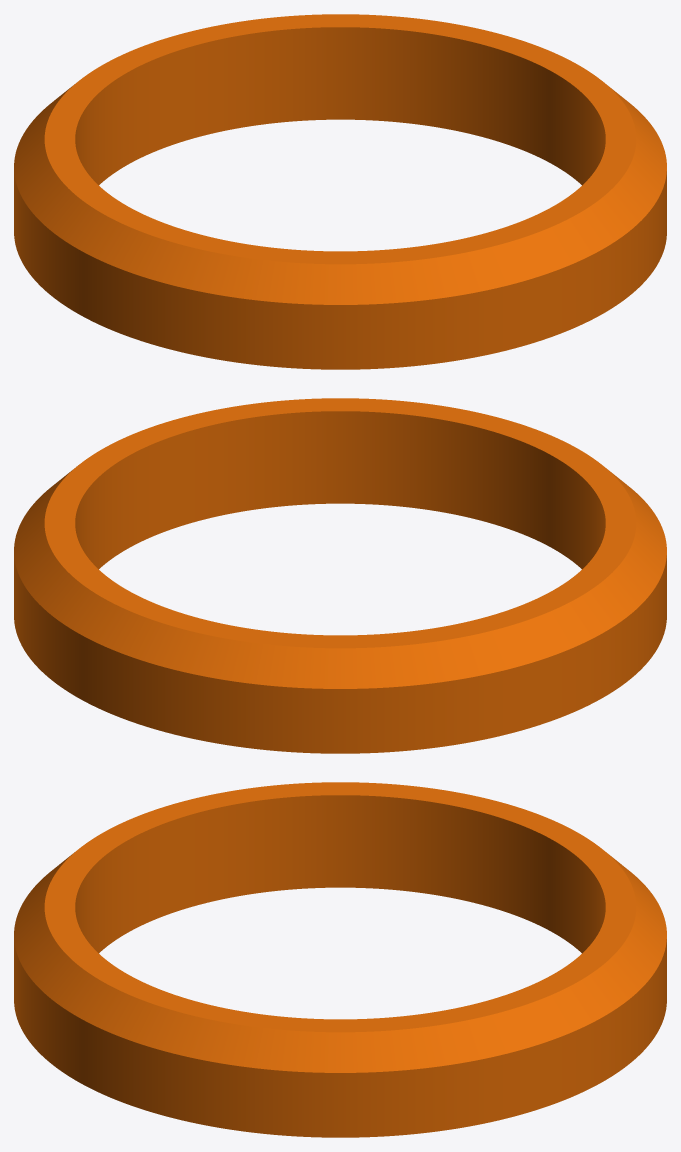
3 renders of one model, top to bottom at view 1: azimuth 30°, elevation 25°; view 2: azimuth 150°, elevation 25°; view 3: azimuth 270°, elevation 25°, orthographic.
Parts seen in each view (by area): view 1: 倒角1; view 2: 倒角1; view 3: 倒角1.
Part boxes in pixels (x1=…): 倒角1: x1=14, y1=14, x2=666, y2=369; 倒角1: x1=14, y1=398, x2=666, y2=753; 倒角1: x1=14, y1=782, x2=666, y2=1137.
Bounding box in the file's own units: 1.26 × 0.1969 × 1.26.
